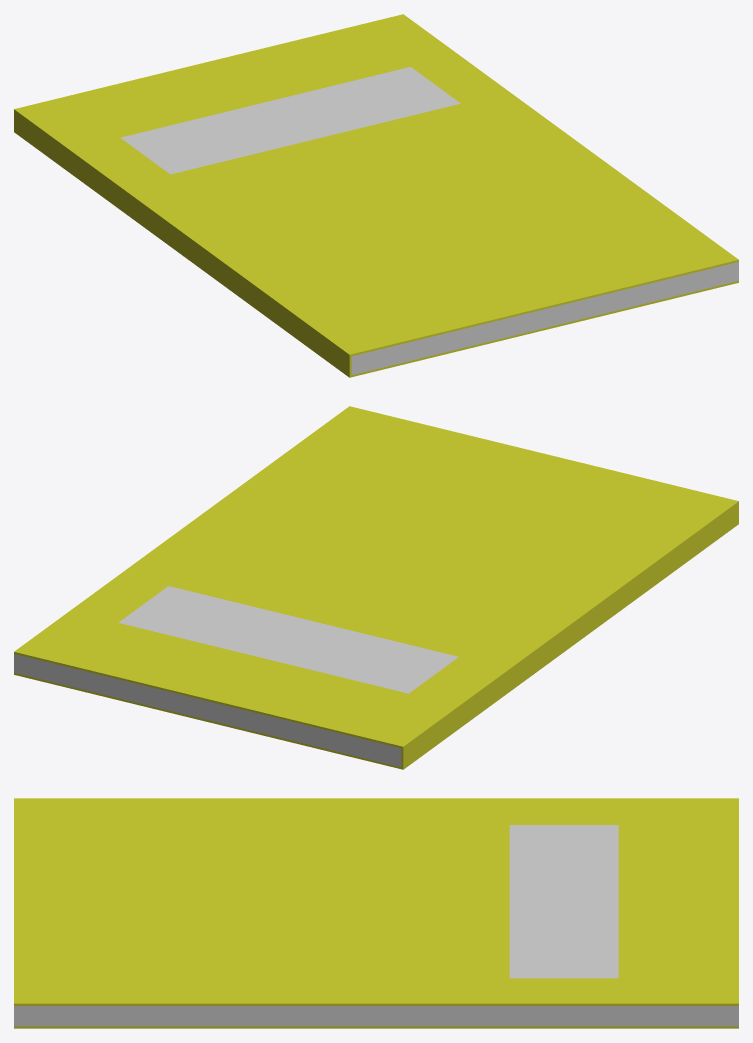
Rendered from Book13.fbx.
3 renders of one model, top to bottom at view 1: azimuth 30°, elevation 25°; view 2: azimuth 150°, elevation 25°; view 3: azimuth 270°, elevation 25°, orthographic. The views are drawn at different scales.
Visible parts, largest first — view 1: Cube; view 2: Cube; view 3: Cube.
Boxes of the visible parts, bbox=[...] form: Cube: bbox=[14, 14, 738, 377]; Cube: bbox=[14, 406, 738, 769]; Cube: bbox=[14, 798, 738, 1028].
Bounding box in the file's own units: 0.201 × 0.0113 × 0.3.
